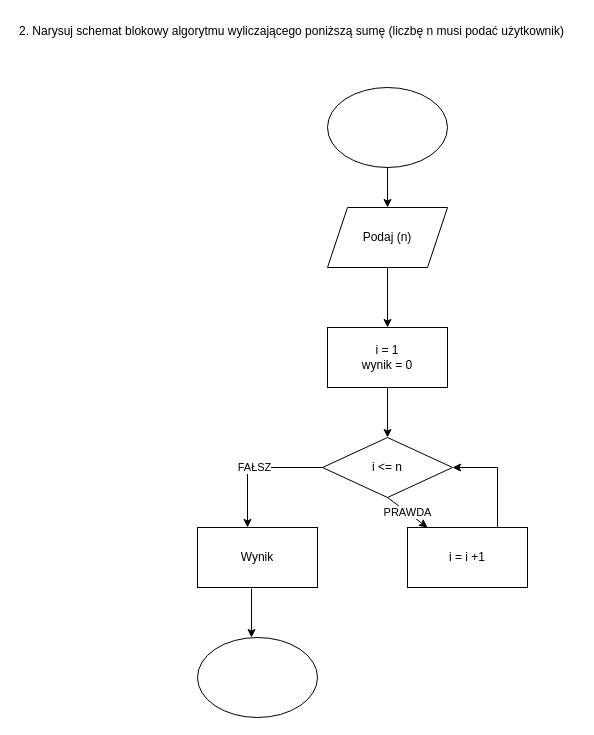
The diagram is 594 pixels wide and 735 high, and some of its shapes have lost their labels. The shapes that lost their labels are listed below. From the top down, each one's box as (x1, y1, x2, y2) in pixels, then its label:
(326, 86, 448, 168): START
(196, 636, 318, 718): STOP
